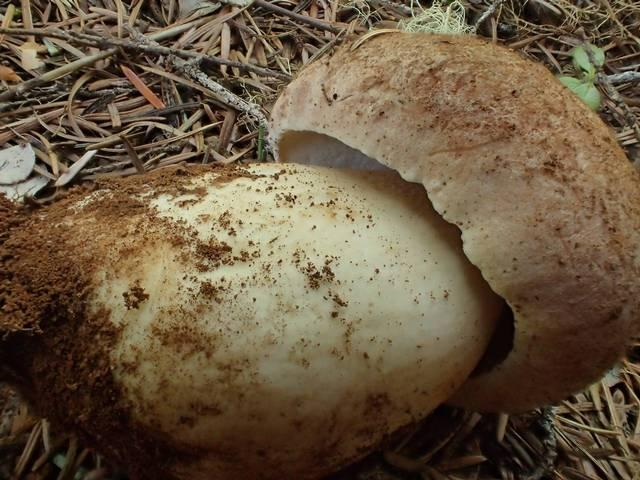edible_mushroom: (0, 30, 640, 478)
